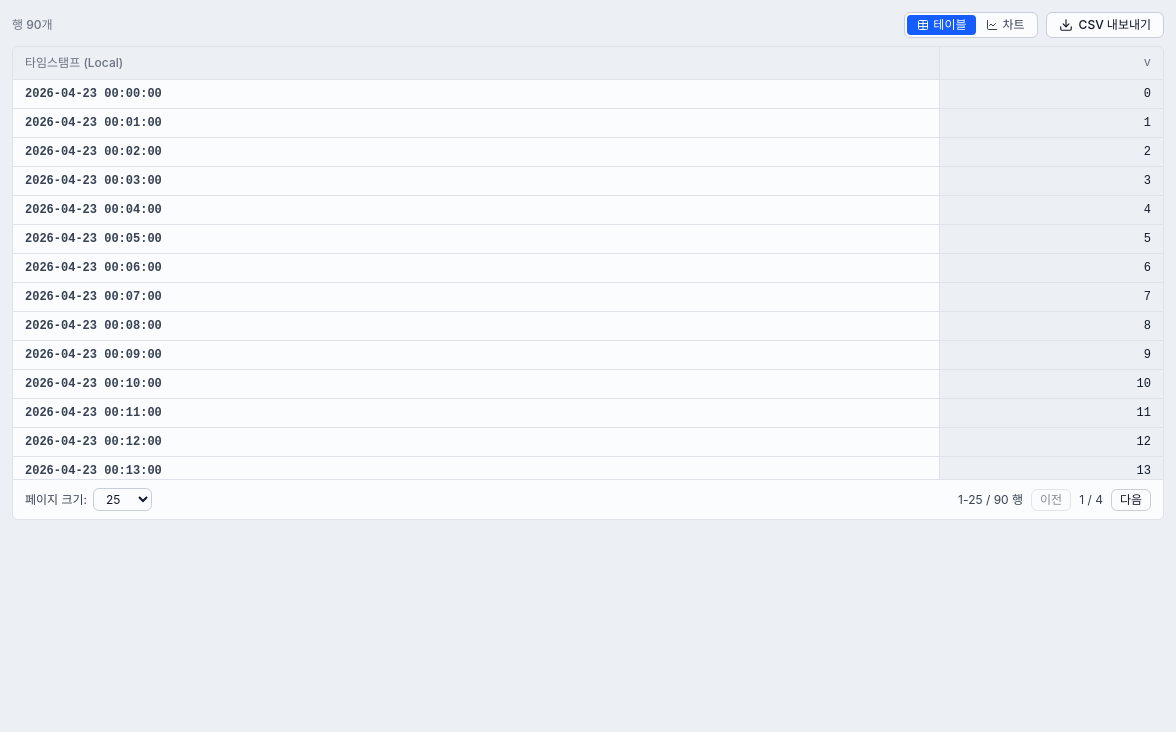
Scenario: SeriesResultMatrix: 페이지네이션 › 마지막 페이지의 "X-Y / Z" 표시는 Y = min(page*size, total)
The width and height of the screenshot is (1176, 732).
Click the button with test id "tsdb-page-next" at (1131, 500), box [1111,488,1151,510]
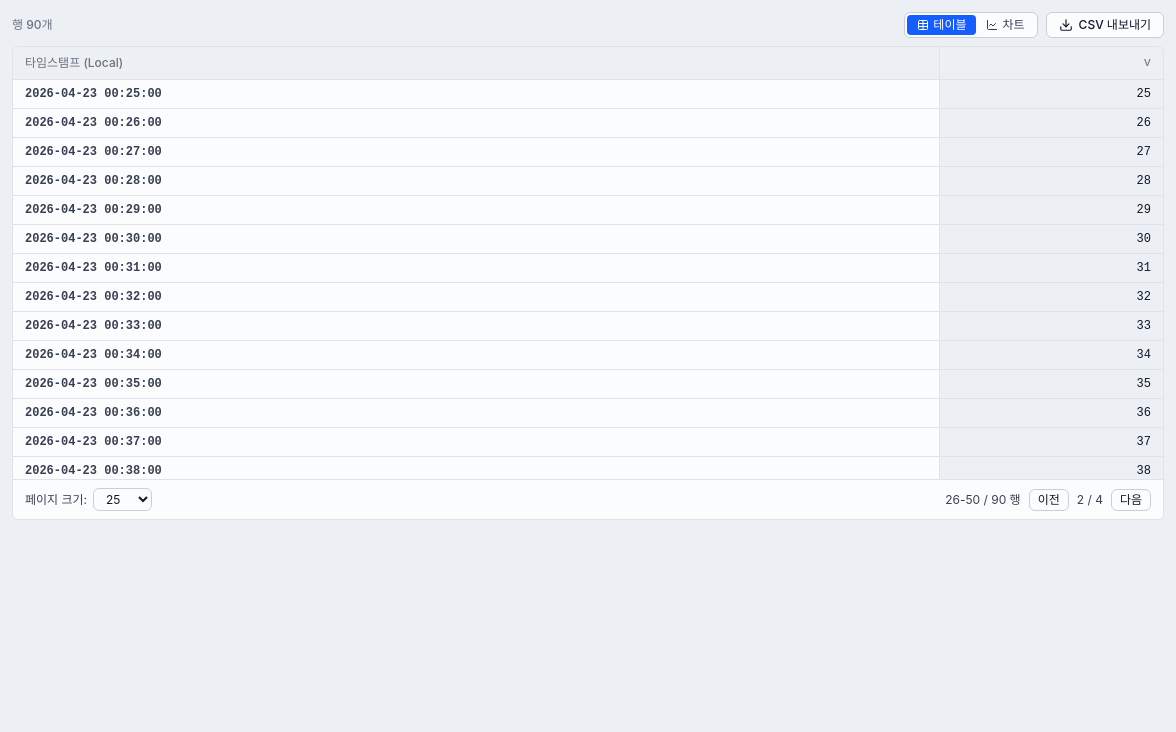
Click the button with test id "tsdb-page-next" at (1131, 500), box [1111,488,1151,510]
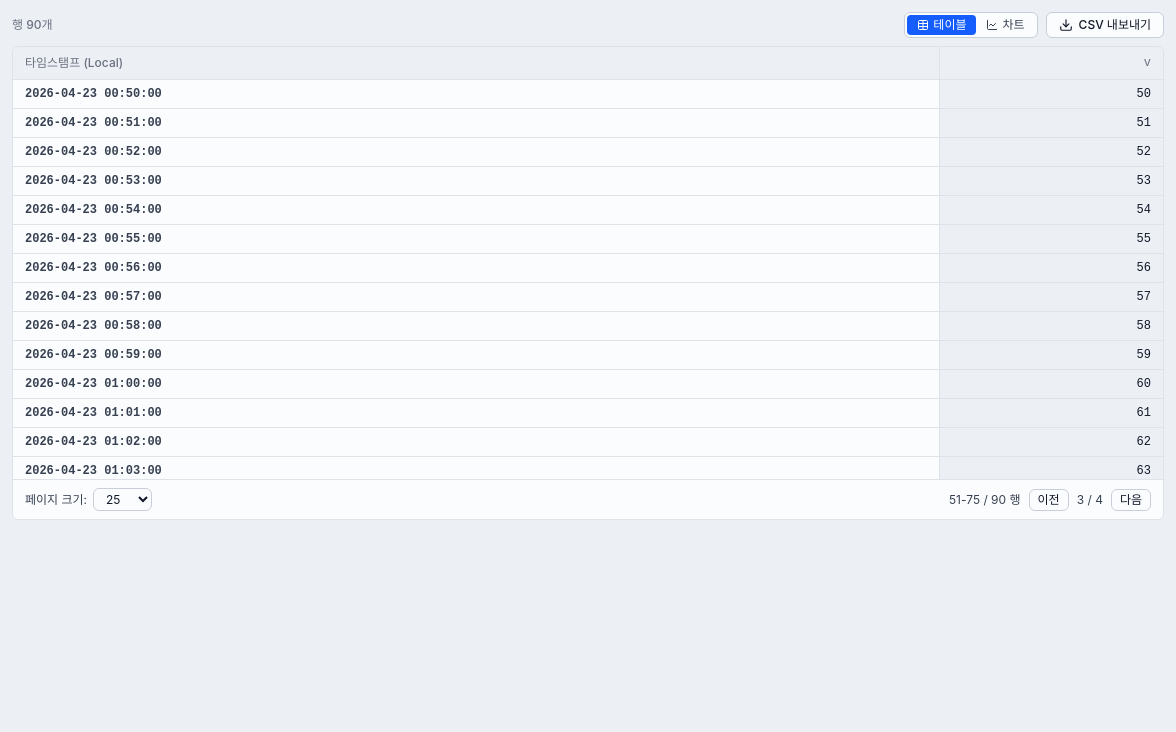
Click the button with test id "tsdb-page-next" at (1131, 500), box [1111,488,1151,510]
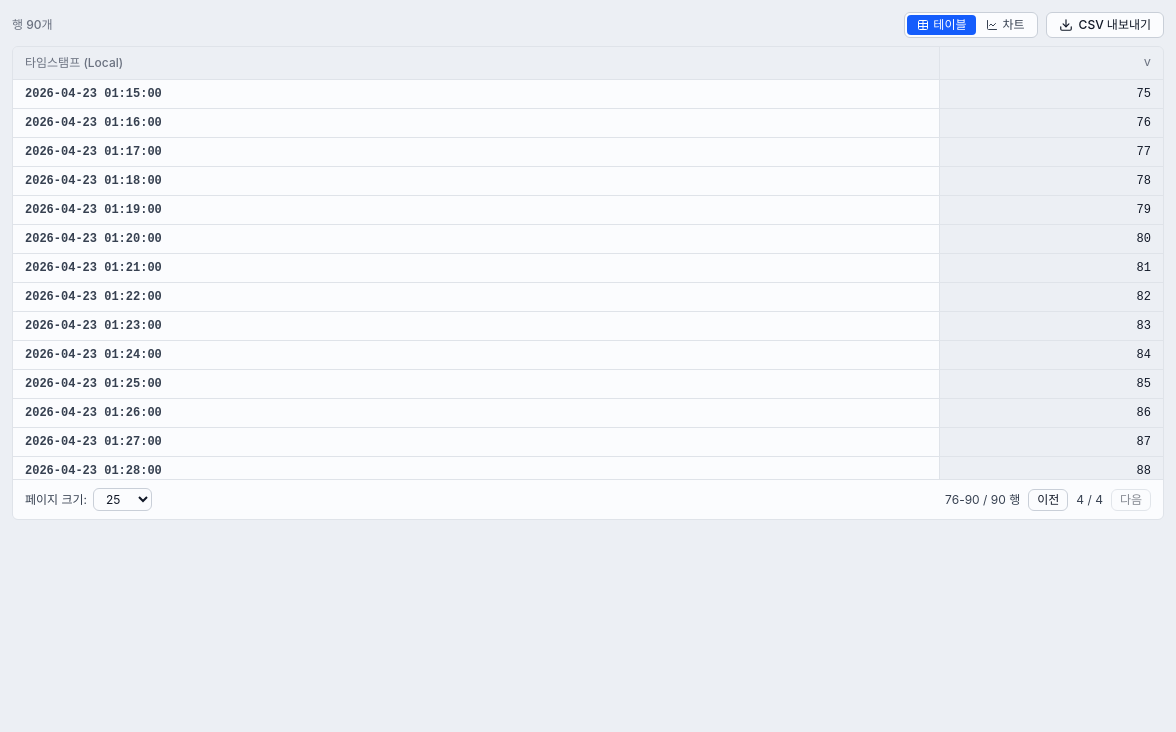
Check: the text with test id "tsdb-page-range" reads "76-90 / 90 행", box [945,492,1020,508]
